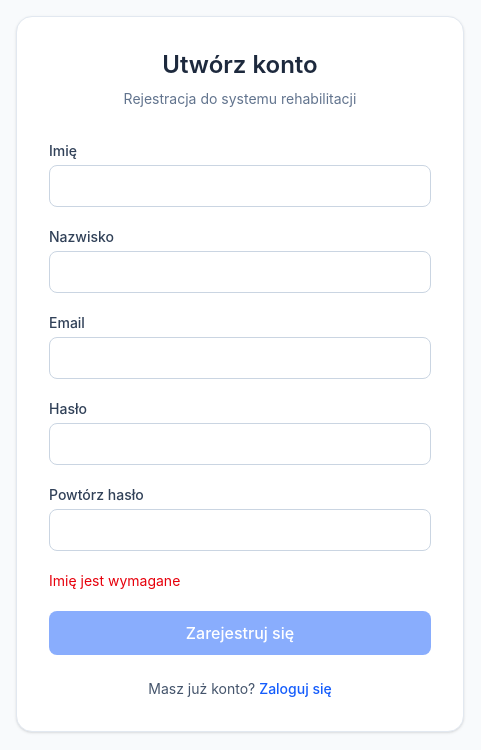
Scenario: RegisterPage › shows api error when register fails
This screenshot has width=481, height=750.
Type "Jan" into the field labelled "Imię" at (240, 186), box [49,165,431,207]
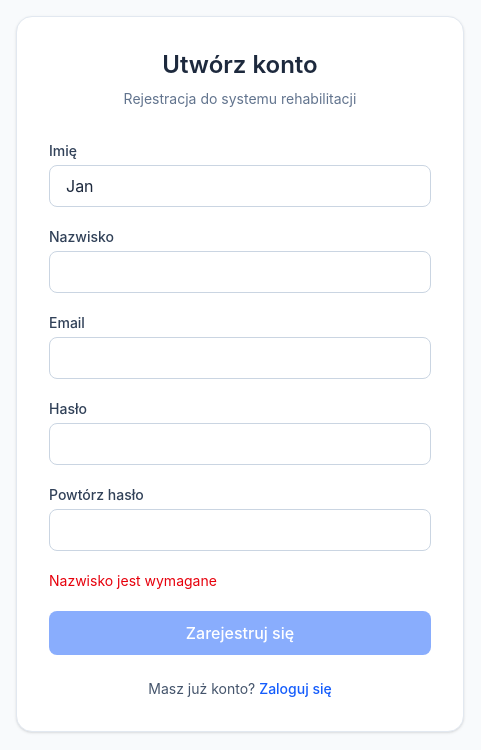
Type "Kowalski" into the field labelled "Nazwisko" at (240, 272), box [49,251,431,293]
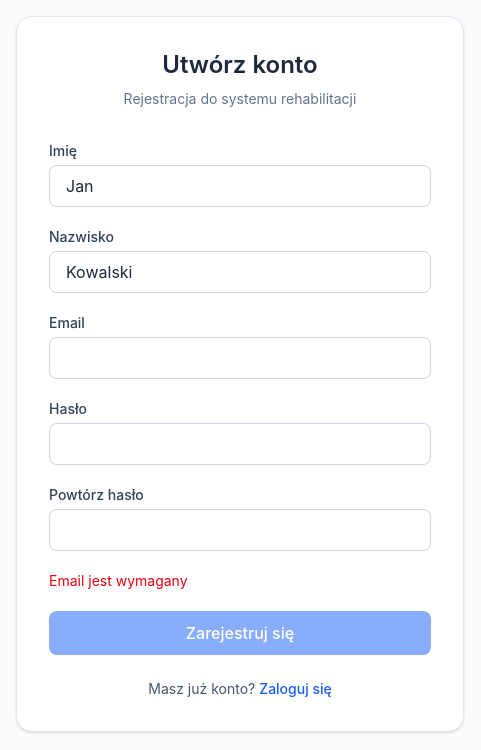
Type "jan@test.pl" into the field labelled "Email" at (240, 358), box [49,337,431,379]
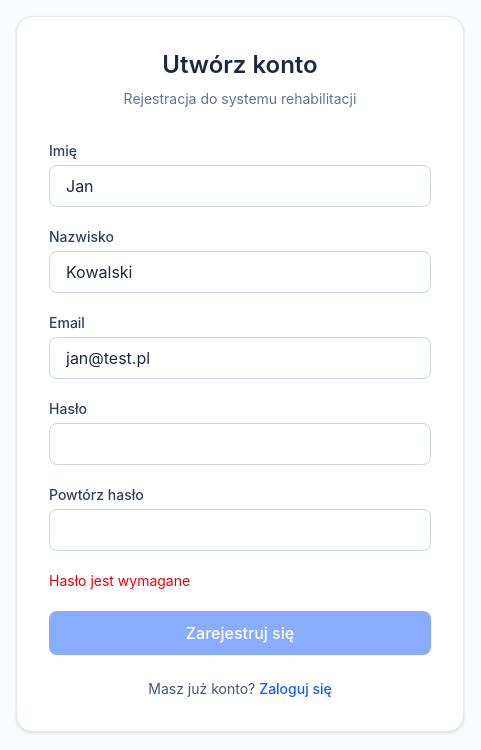
Type "123456" into the password field labelled "Hasło" at (240, 444), box [49,423,431,465]
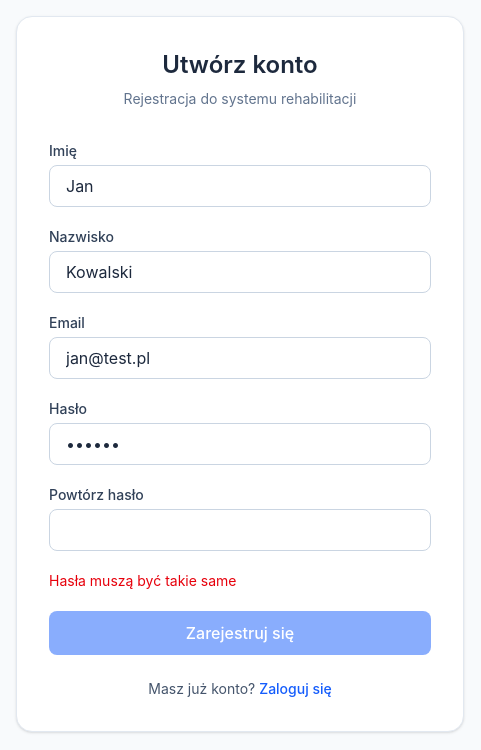
Type "123456" into the password field labelled "Powtórz hasło" at (240, 530), box [49,509,431,551]
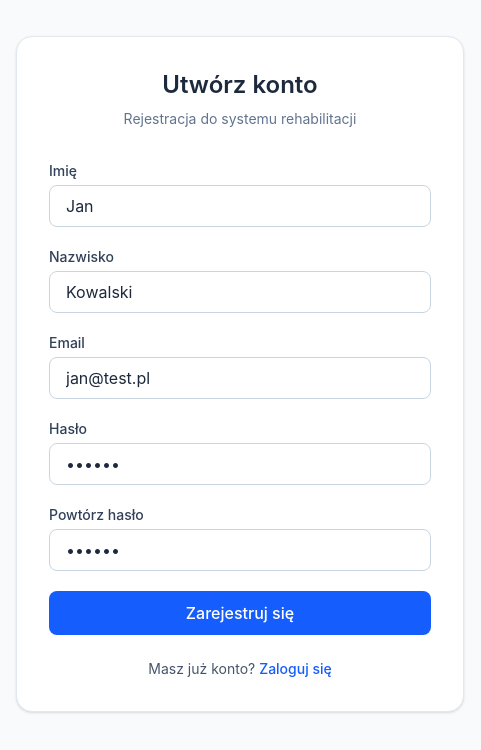
Click the button "Zarejestruj się" at (240, 613), box [49,591,431,635]
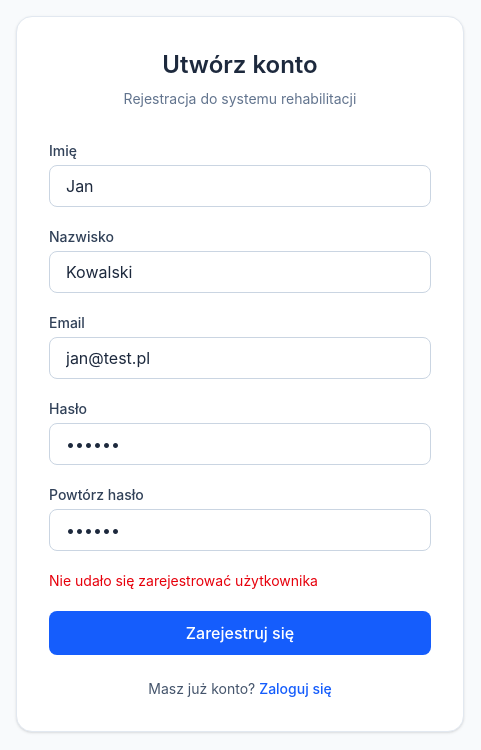
Expected: the message "Nie udało się zarejestrować użytkownika" is shown, [49,572,318,589]
